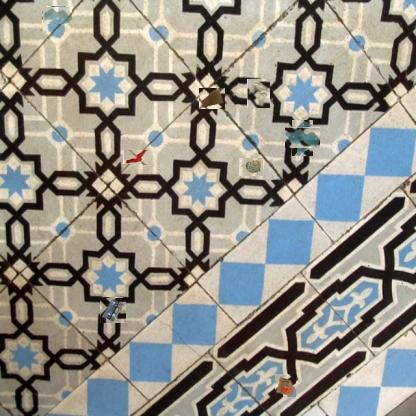dirty: (247, 78, 270, 108), (100, 297, 126, 323), (200, 86, 224, 110), (274, 373, 296, 397), (239, 158, 263, 176), (123, 150, 148, 164)
liquid: (288, 124, 317, 152), (42, 6, 72, 24)
